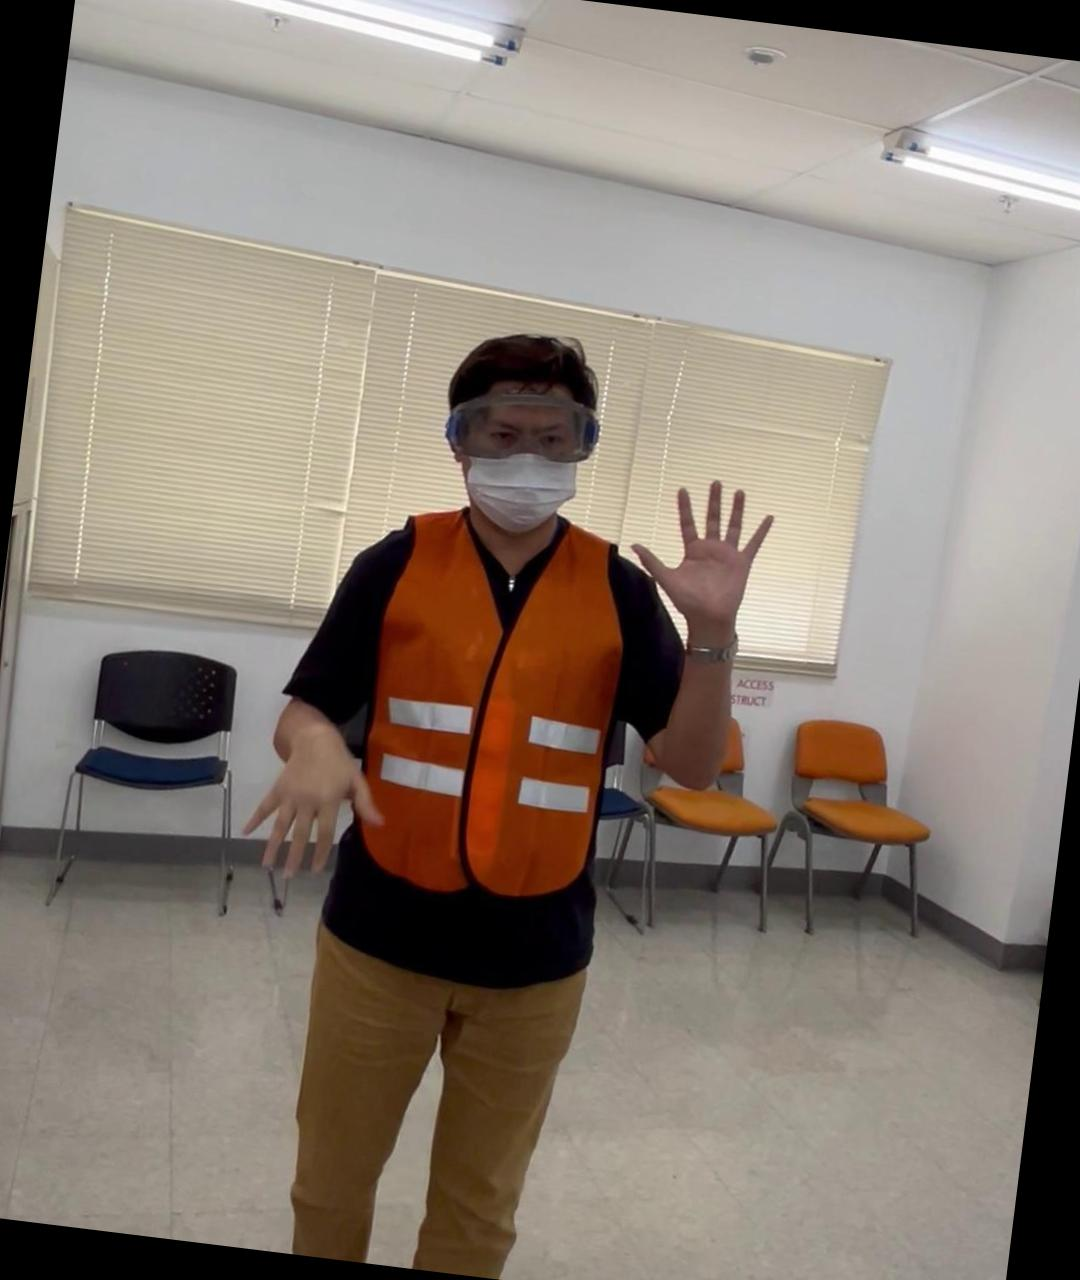No-gloves: (228, 707, 393, 892), (617, 468, 782, 641)
